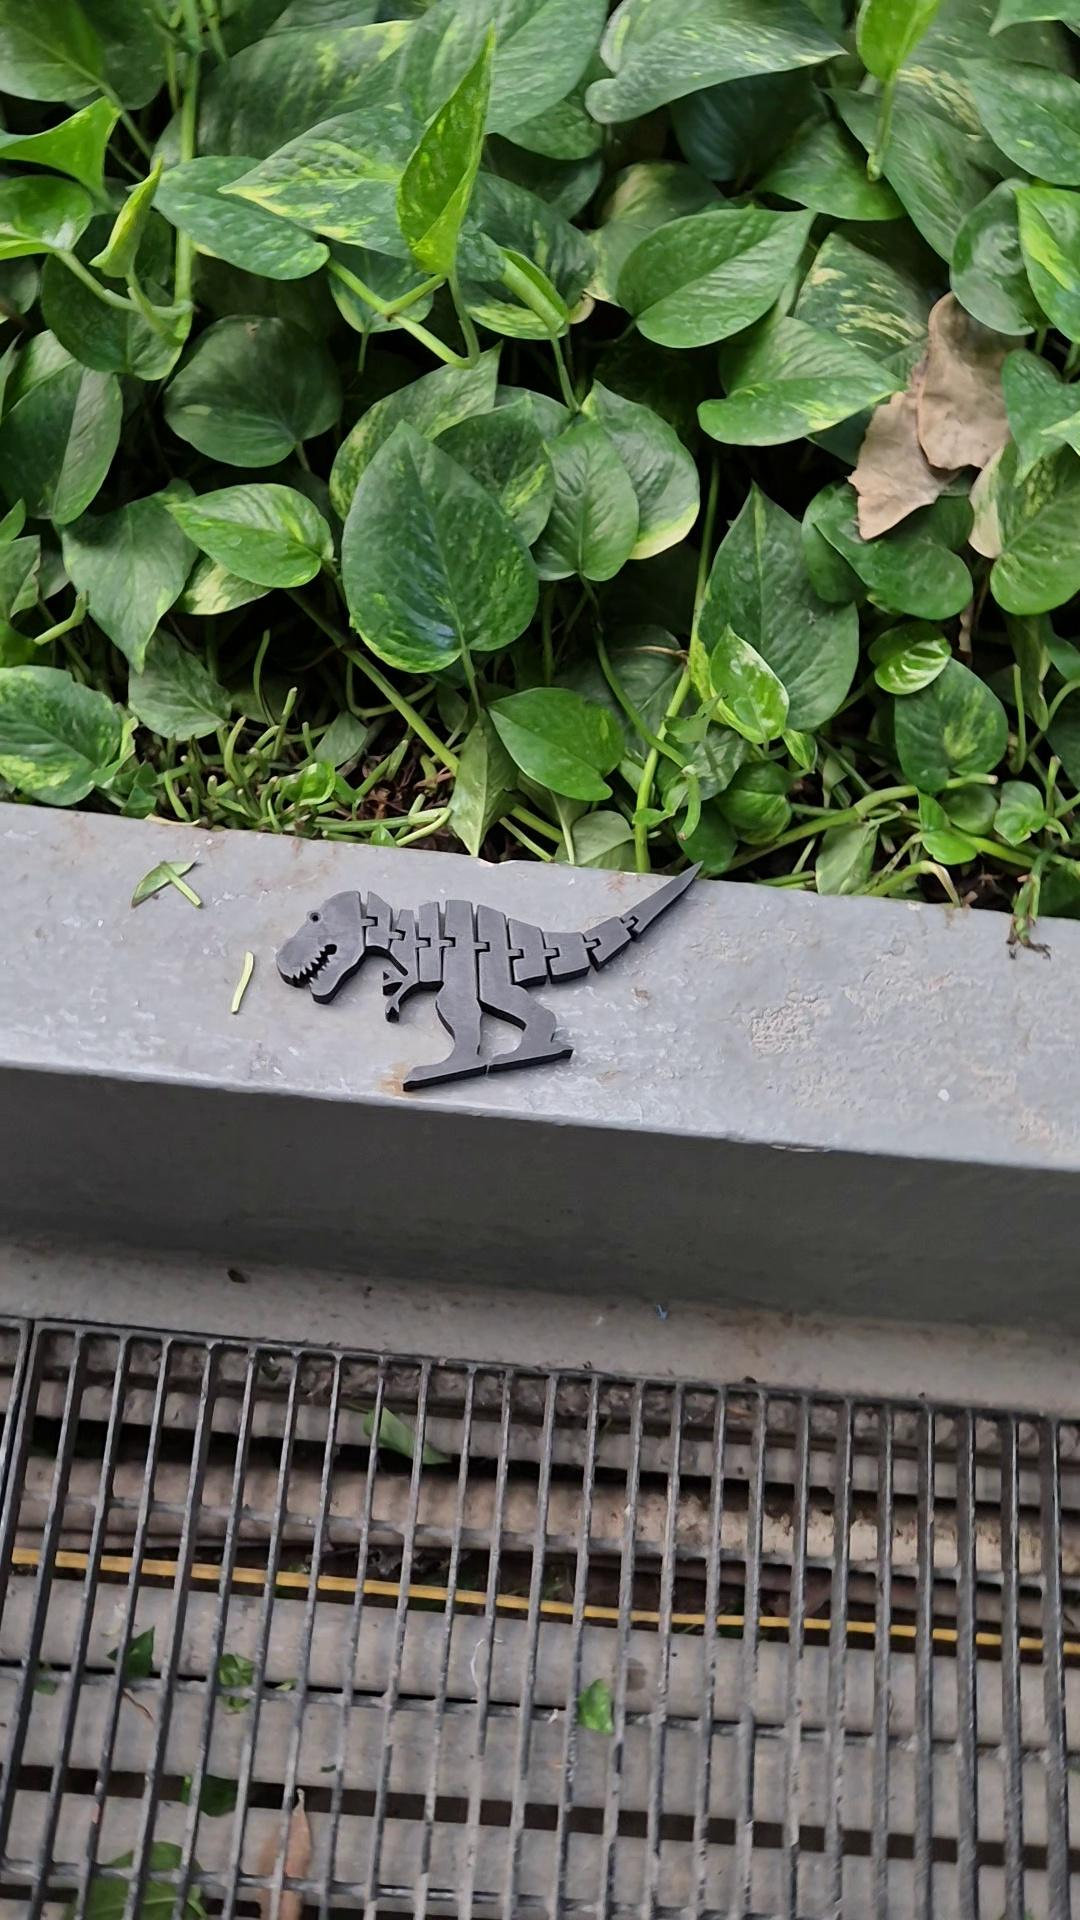dinosaur: (273, 860, 705, 1095)
